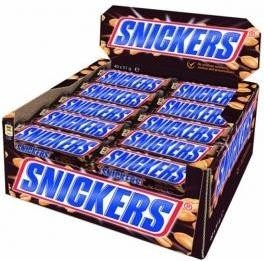snickers: (18, 160, 172, 231), (19, 160, 172, 231), (19, 161, 172, 230), (19, 162, 172, 231), (113, 19, 241, 58), (101, 30, 241, 58), (216, 103, 253, 191), (101, 150, 185, 181), (103, 150, 185, 181), (122, 130, 203, 160), (14, 125, 97, 153), (121, 132, 203, 160), (122, 132, 203, 160), (139, 116, 218, 141), (56, 95, 130, 120), (56, 97, 130, 120), (154, 99, 228, 122), (58, 97, 130, 120), (36, 112, 113, 133), (158, 99, 228, 122), (79, 81, 144, 105), (171, 80, 236, 103), (79, 84, 144, 105), (171, 82, 236, 103), (97, 71, 165, 88), (97, 71, 161, 88)
